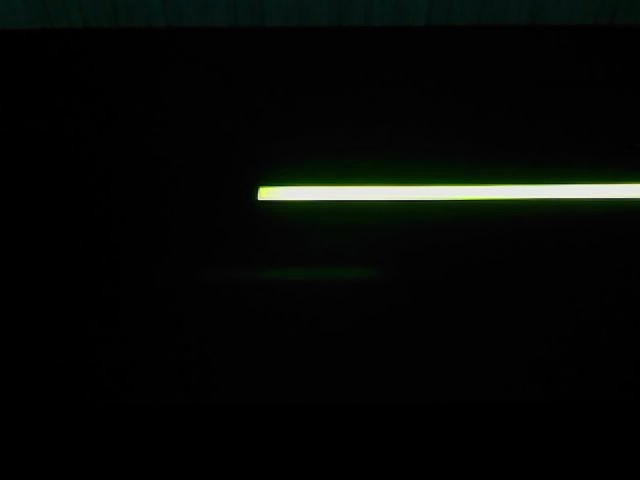小玩具: (312, 273, 430, 416), (220, 344, 403, 373)
电线: (193, 272, 319, 347)
